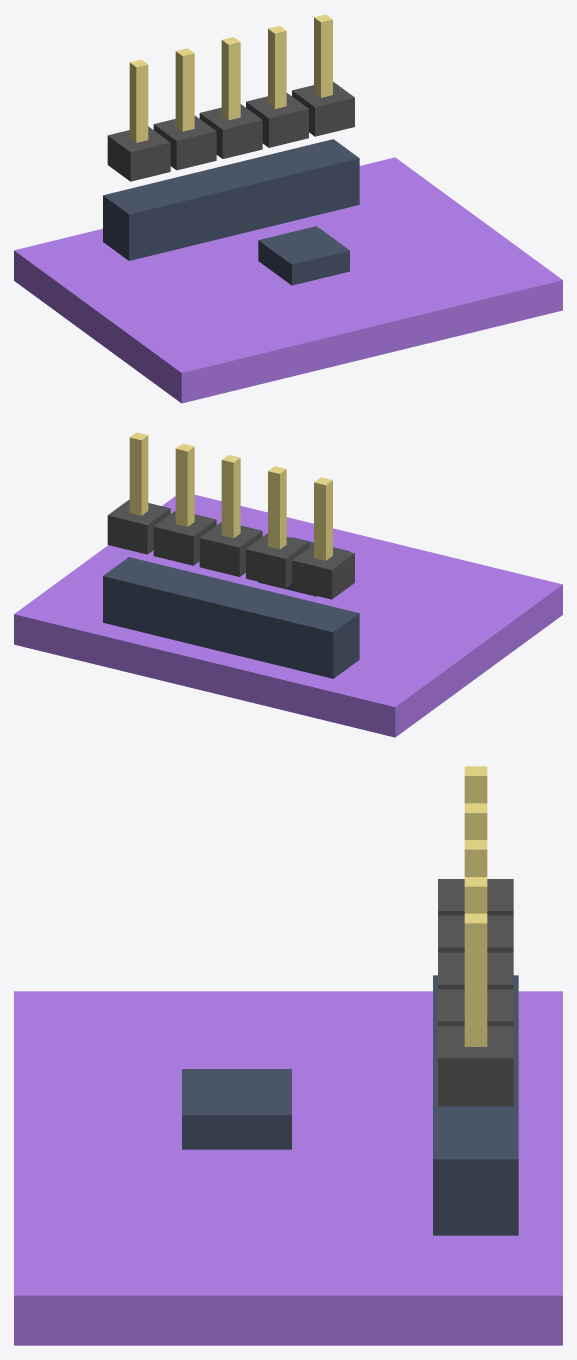
File: bh1750-light-sensor.glb
3 renders of one model, top to bottom at view 1: azimuth 30°, elevation 25°; view 2: azimuth 150°, elevation 25°; view 3: azimuth 270°, elevation 25°, orthographic. The views are drawn at different scales.
Visible parts, largest first — view 1: bh1750-light-sensor_mesh; view 2: bh1750-light-sensor_mesh; view 3: bh1750-light-sensor_mesh.
Part boxes in pixels (x1,y1,x2,y2): bh1750-light-sensor_mesh: (14,14,562,403); bh1750-light-sensor_mesh: (14,432,562,737); bh1750-light-sensor_mesh: (14,766,562,1345).
Size of the model in its own units: 21 by 11.2 by 16.
